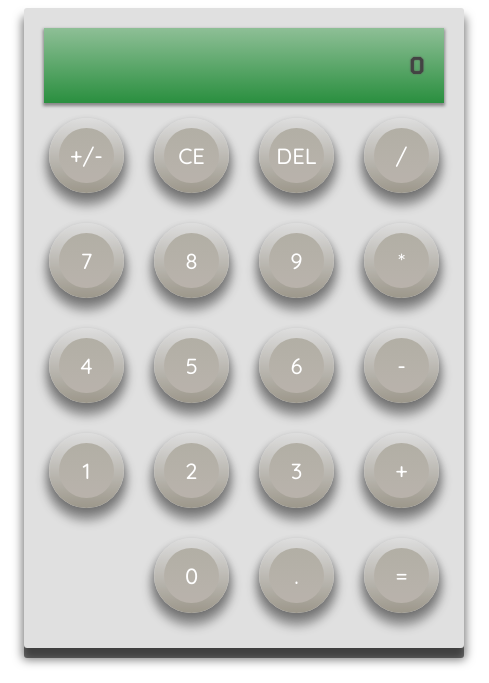
Test case: Tests For Operations › 1 minus 2 gives error because negative.
The image size is (489, 683).
Click the element showing "1" at (86, 470), box x1=49 y1=433 x2=124 y2=508
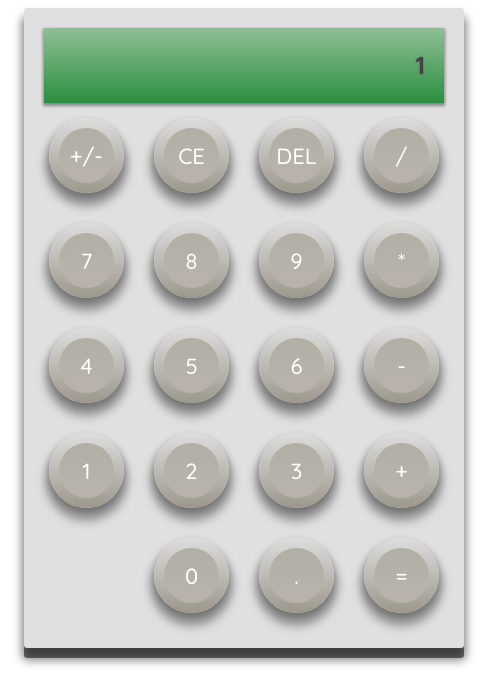
Click the element showing "-" at (402, 366), box x1=364 y1=328 x2=439 y2=403
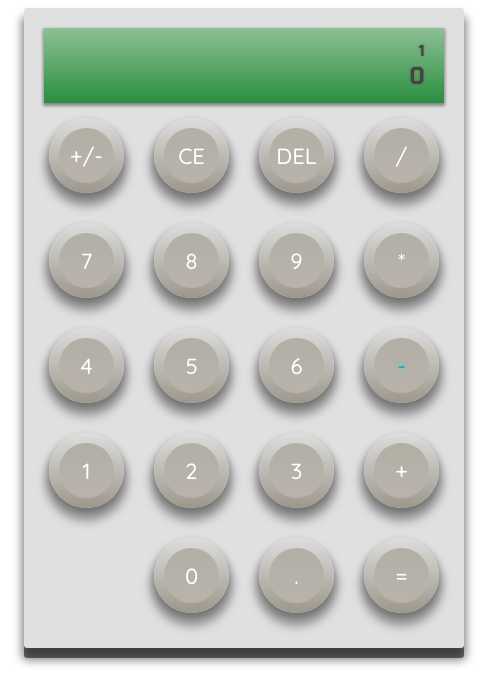
Click the element showing "2" at (192, 470), box x1=154 y1=433 x2=229 y2=508
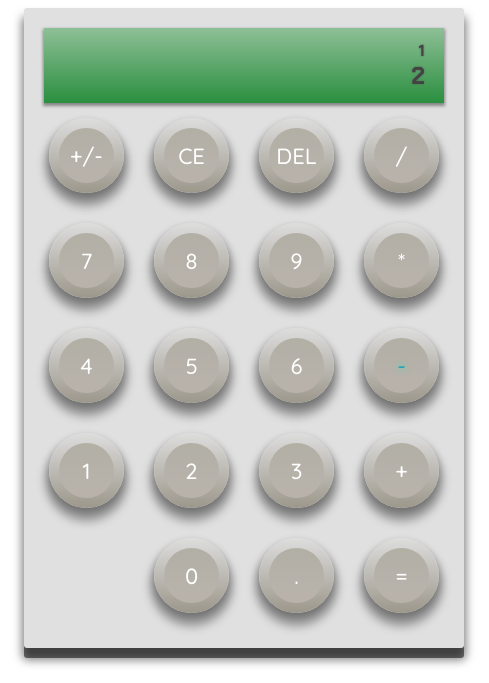
Click the element showing "=" at (402, 576), box x1=364 y1=538 x2=439 y2=613
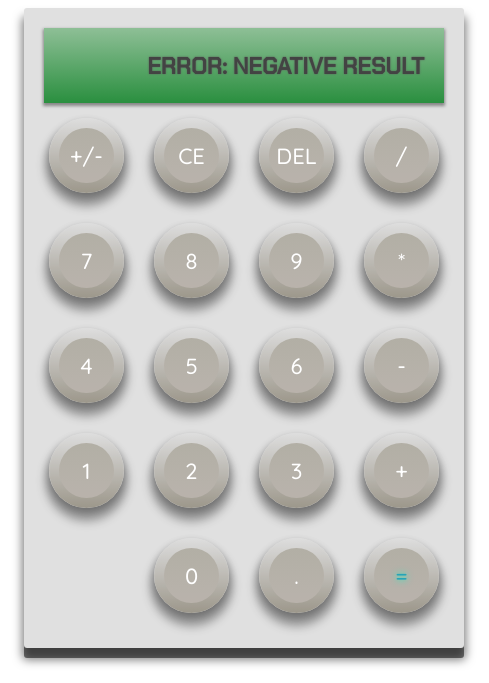
expect the text "ERROR: NEGATIVE RESULT" is shown: met, box x1=147 y1=50 x2=424 y2=80
